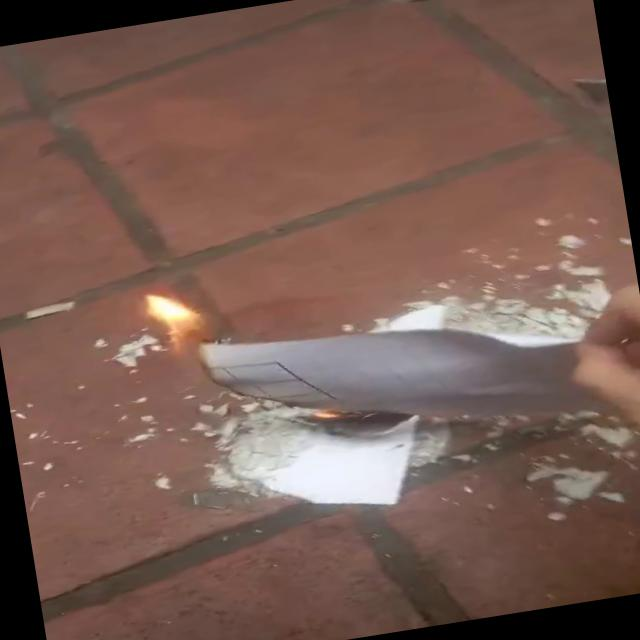Fire_Dangerous: (143, 278, 245, 397)
